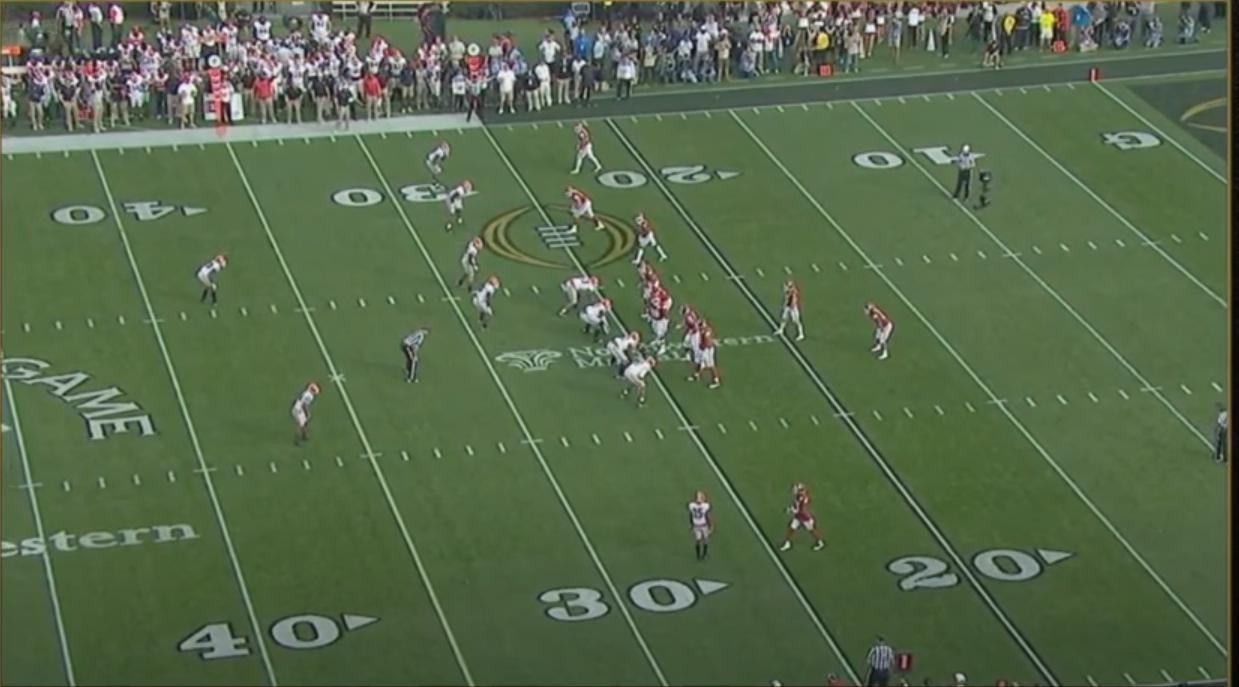player: (777, 481, 830, 558), (683, 487, 718, 563), (560, 183, 605, 240), (687, 325, 723, 393), (633, 210, 675, 268), (288, 379, 321, 450), (778, 275, 811, 345), (619, 352, 659, 409), (566, 121, 605, 179), (865, 300, 899, 365), (606, 328, 646, 381), (559, 274, 606, 319), (196, 250, 230, 310), (582, 295, 622, 346), (645, 301, 678, 361), (458, 234, 489, 295), (677, 301, 707, 364), (473, 273, 503, 335), (446, 178, 478, 232), (646, 285, 680, 328), (424, 141, 453, 189), (635, 258, 665, 295)
ref: (399, 324, 431, 387), (864, 635, 901, 686), (953, 142, 980, 207), (465, 76, 488, 129)
